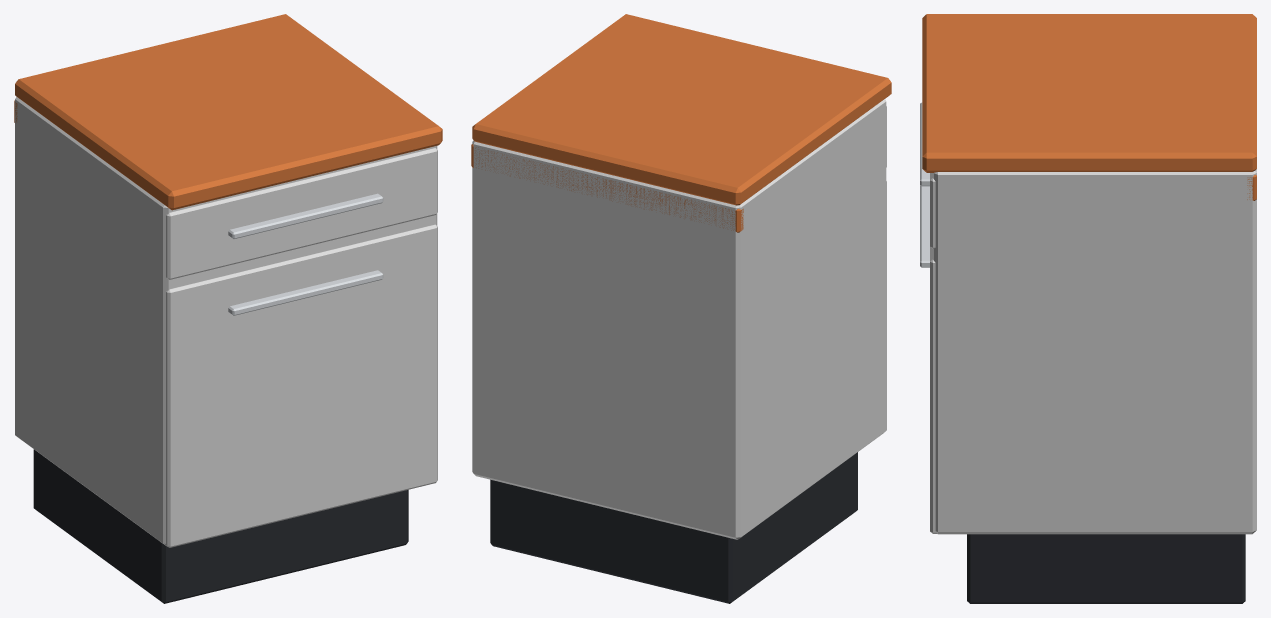
File: kitchen-base-600.glb
3 renders of one model, left to right at view 1: azimuth 30°, elevation 25°; view 2: azimuth 150°, elevation 25°; view 3: azimuth 270°, elevation 25°, orthographic. The views are drawn at different scales.
Visible parts, largest first — view 1: kitchen-base-600.tint, kitchen-base-600.accent, kitchen-base-600.graphite, kitchen-base-600.chrome; view 2: kitchen-base-600.tint, kitchen-base-600.accent, kitchen-base-600.graphite; view 3: kitchen-base-600.tint, kitchen-base-600.accent, kitchen-base-600.graphite, kitchen-base-600.chrome.
Part boxes in pixels (bbox=[...]): kitchen-base-600.tint: bbox=[15, 97, 437, 547]; kitchen-base-600.accent: bbox=[14, 14, 442, 210]; kitchen-base-600.graphite: bbox=[33, 449, 408, 603]; kitchen-base-600.chrome: bbox=[228, 193, 383, 315]; kitchen-base-600.tint: bbox=[472, 99, 886, 539]; kitchen-base-600.accent: bbox=[471, 14, 891, 232]; kitchen-base-600.graphite: bbox=[490, 452, 857, 603]; kitchen-base-600.tint: bbox=[930, 169, 1256, 534]; kitchen-base-600.accent: bbox=[922, 14, 1256, 200]; kitchen-base-600.graphite: bbox=[967, 534, 1245, 603]; kitchen-base-600.chrome: bbox=[920, 102, 929, 267].
Size of the model in its own units: 0.6 by 0.9 by 0.6.
